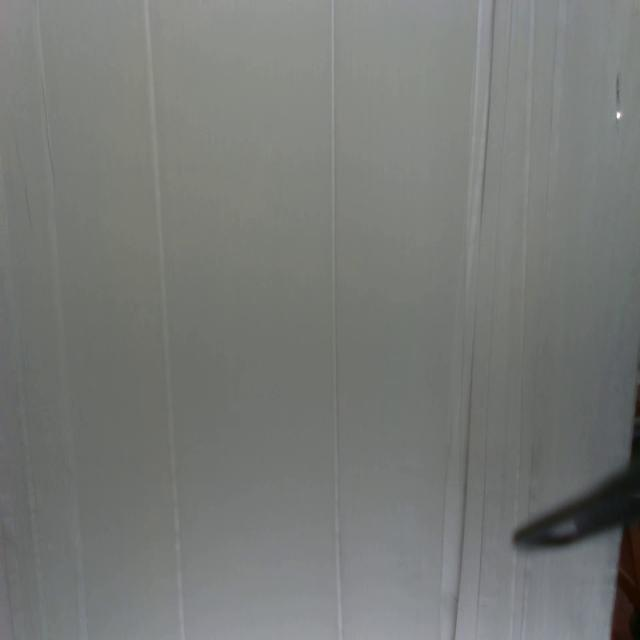crease: (33, 0, 88, 636), (142, 0, 187, 639), (452, 0, 496, 639), (512, 0, 538, 521), (9, 340, 48, 638), (330, 0, 345, 639), (543, 0, 562, 207)
hole: (616, 72, 618, 128)
